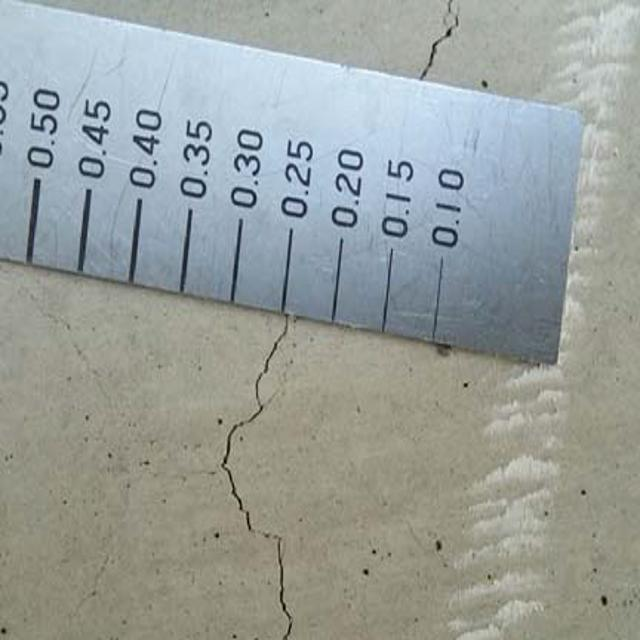crack: (209, 303, 310, 640), (400, 4, 479, 97)
